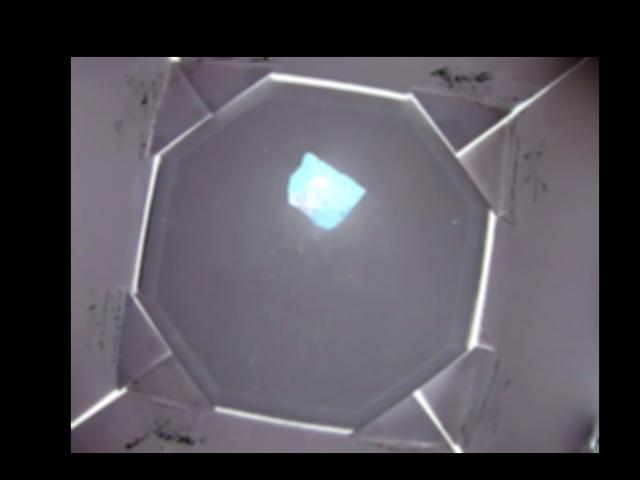Brisk: (289, 150, 363, 226)
